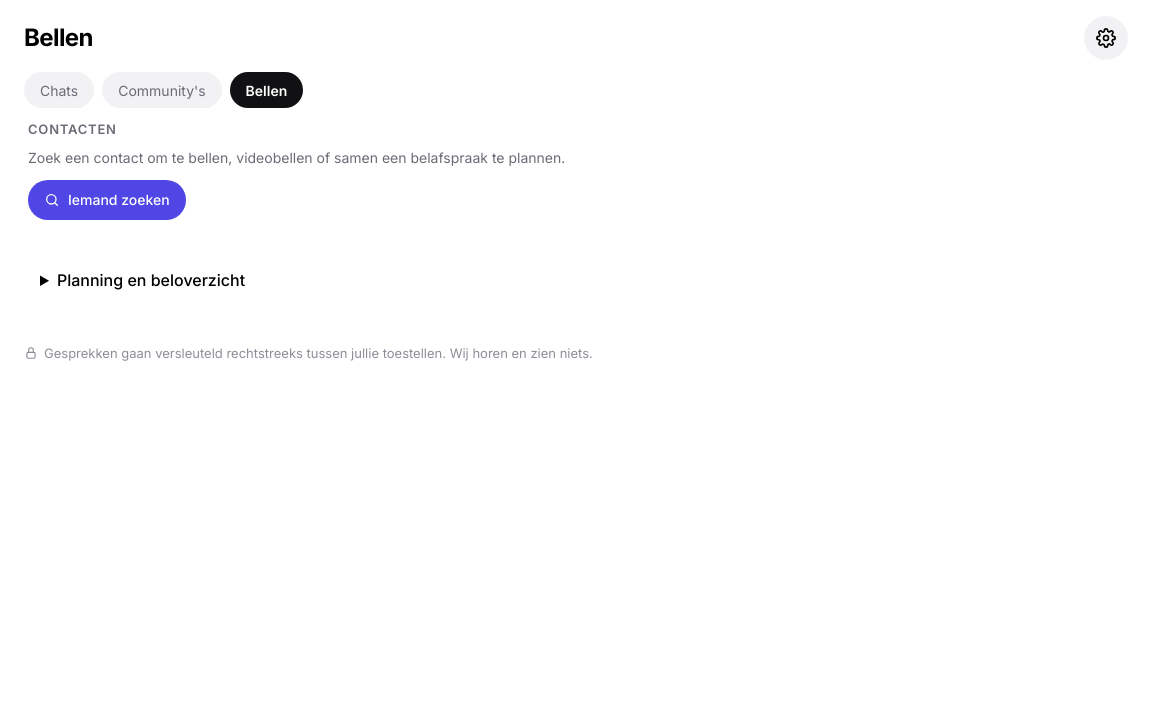
toont bij Bellen maar één instellingenknop en houdt algemene privacy daaronder bereikbaar
Expected: the button "Iemand zoeken" is shown, [28,180,186,220]
Click the button named "Belinstellingen" at (1106, 38), box [1084,16,1128,60]
(page scrolled)
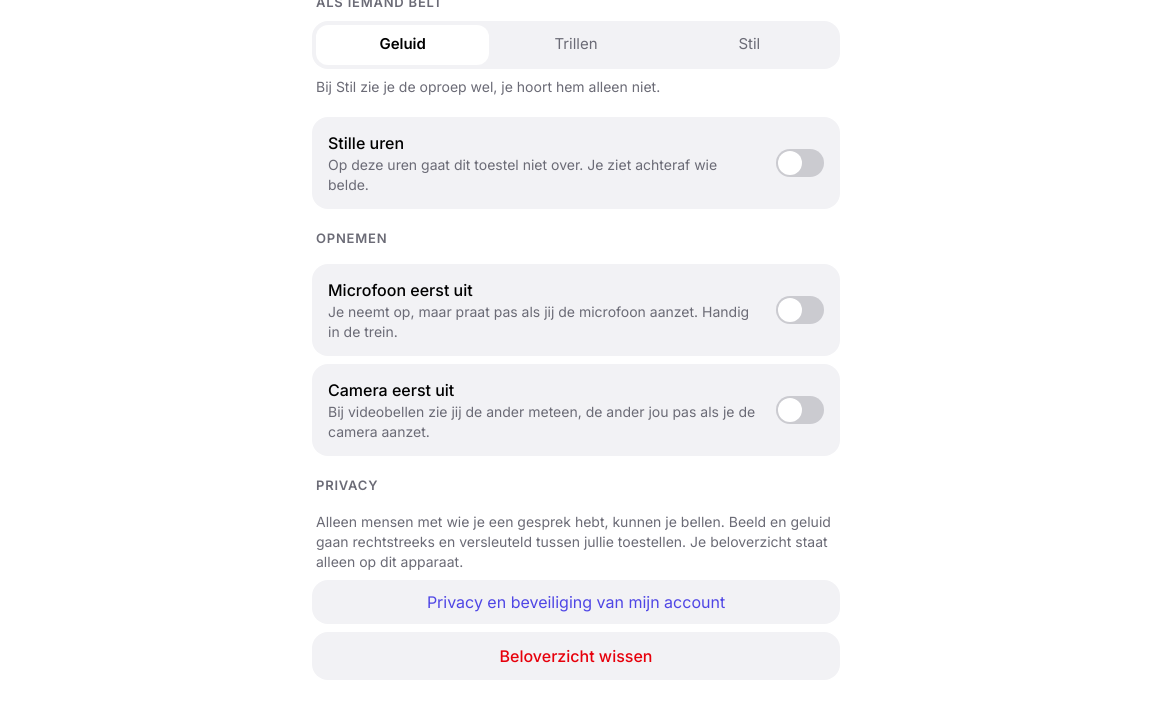
Click the button "Privacy en beveiliging van mijn account" at (576, 602), box [312,580,840,624]
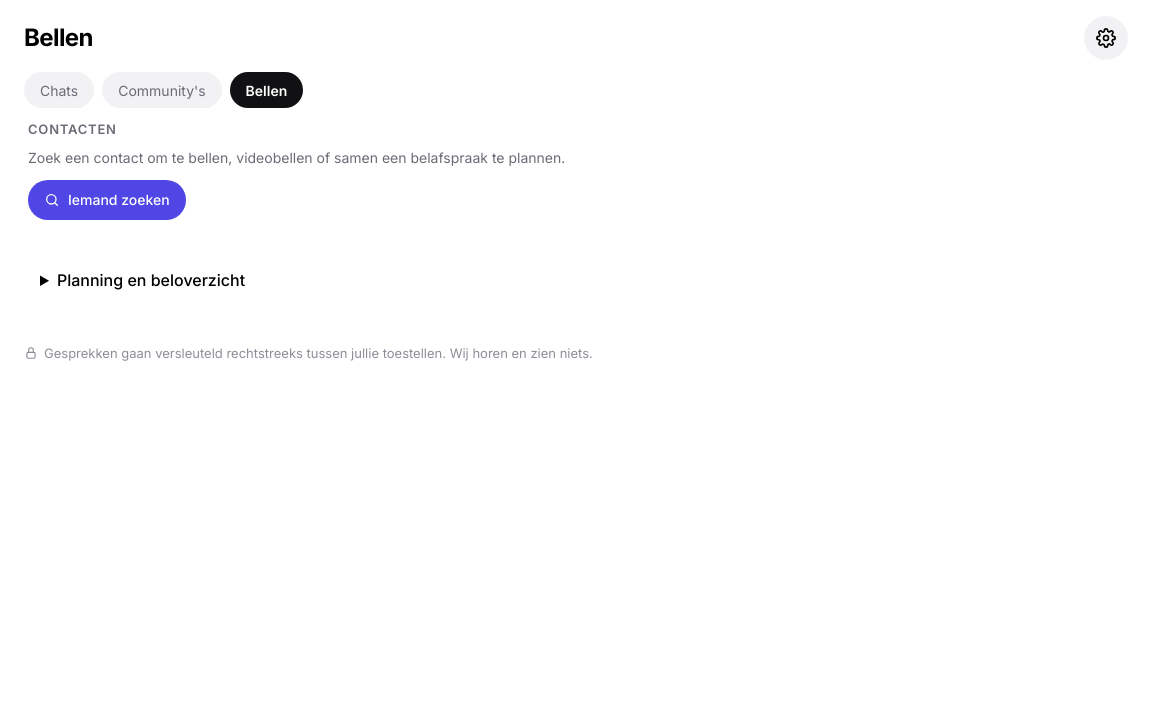
Expected: the dialog is gone
